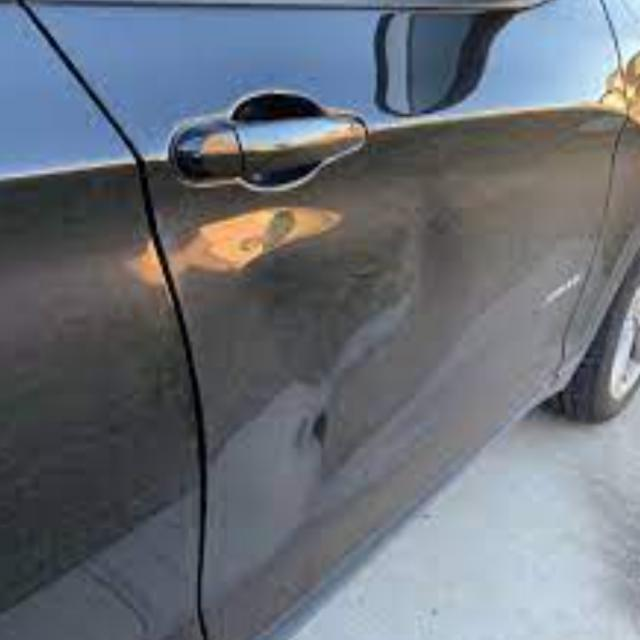dents: (290, 399, 354, 494)
